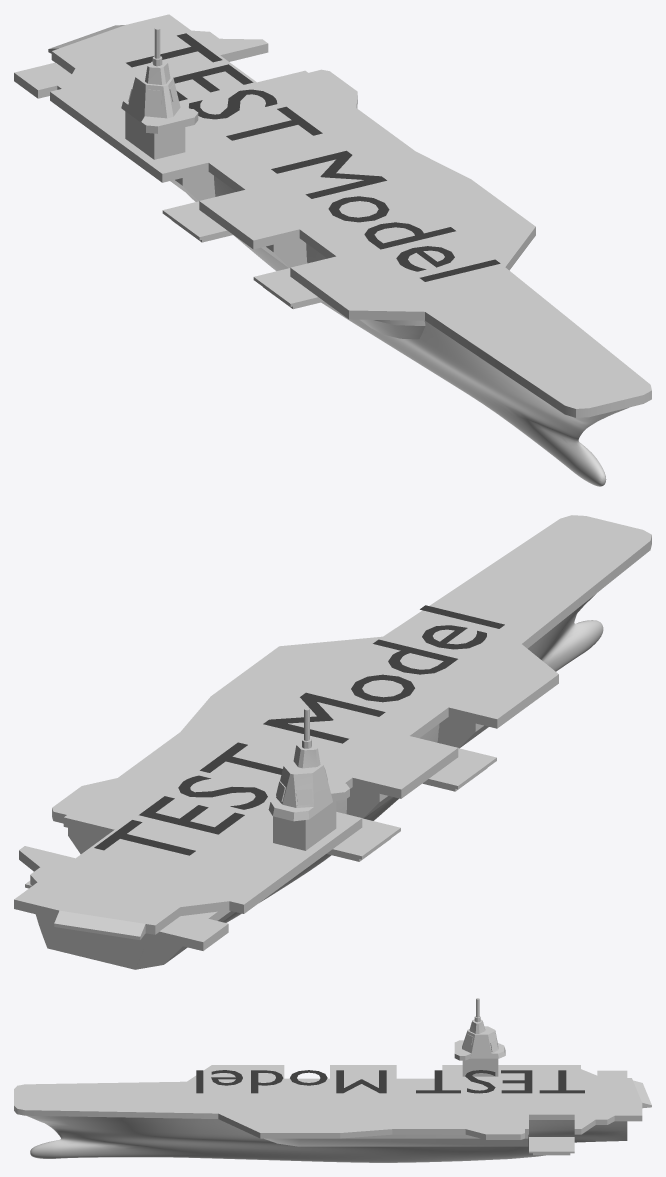
Rendered from TestCarrier.fbx.
3 views of the same model, one above another, from view 1: azimuth 30°, elevation 25°; view 2: azimuth 150°, elevation 25°; view 3: azimuth 270°, elevation 25° (orthographic). The views are drawn at different scales.
Visible parts, largest first — view 1: Carrier, Carrier.001; view 2: Carrier, Carrier.001; view 3: Carrier, Carrier.001.
Boxes of the visible parts, x1=… form: Carrier: x1=14, y1=14, x2=651, y2=486; Carrier.001: x1=126, y1=33, x2=500, y2=281; Carrier: x1=14, y1=515, x2=651, y2=969; Carrier.001: x1=94, y1=605, x2=504, y2=855; Carrier: x1=14, y1=998, x2=651, y2=1162; Carrier.001: x1=196, y1=1070, x2=584, y2=1093.
Size of the model in its own units: 1546 by 1380 by 5932.
2 materials, 1 textured.
